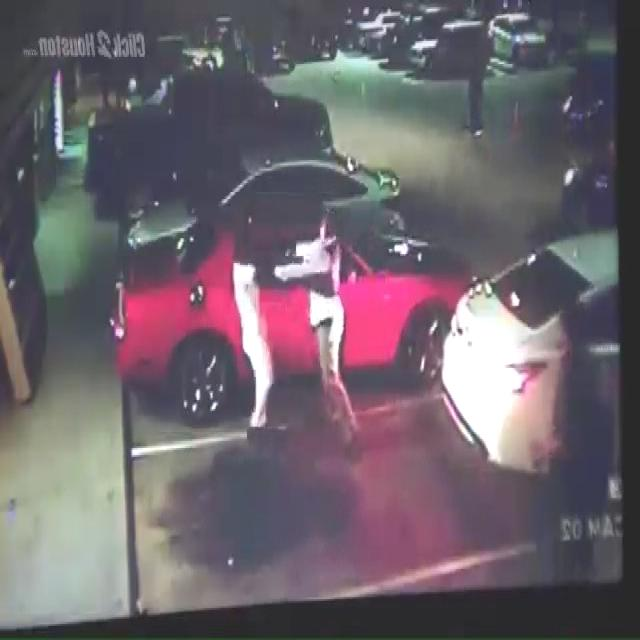fight: (230, 208, 362, 472)
